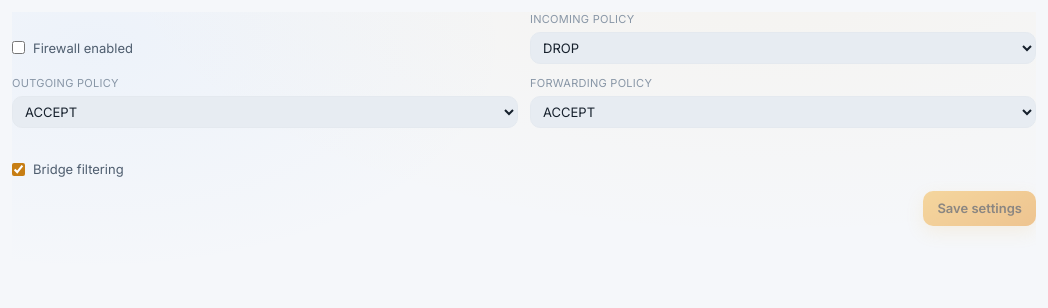
Test: FirewallOptionsPanel › counts the allow rules that will still let traffic through
The width and height of the screenshot is (1048, 308).
Click the checkbox labelled "Firewall enabled" at x=18, y=48, box [12, 42, 25, 54]
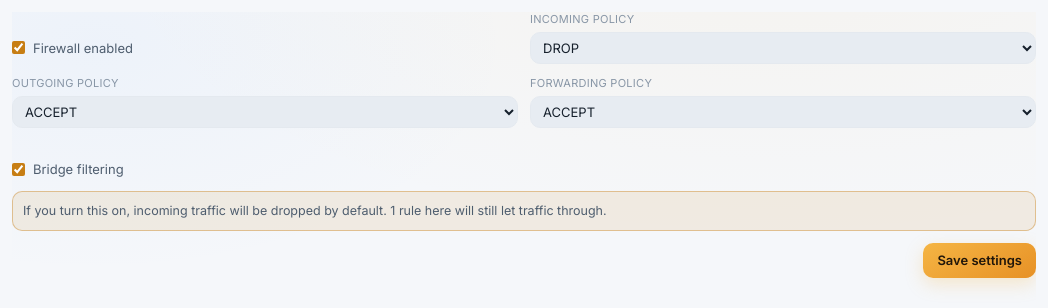
Expected: the text "1 rule here will still let traffic through" is shown, [23, 203, 607, 218]
